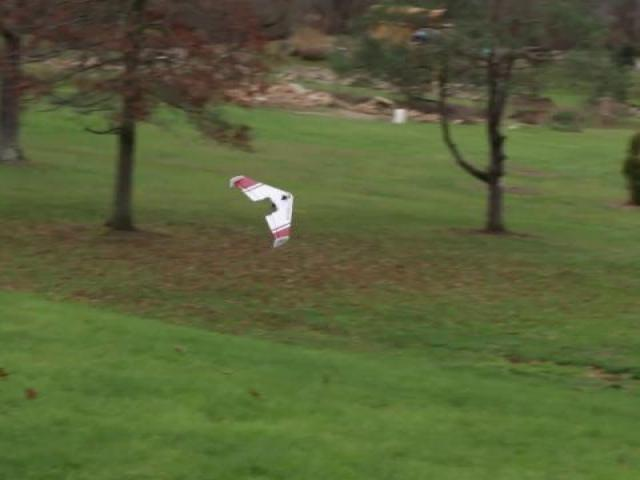flying wing: (229, 172, 296, 255)
